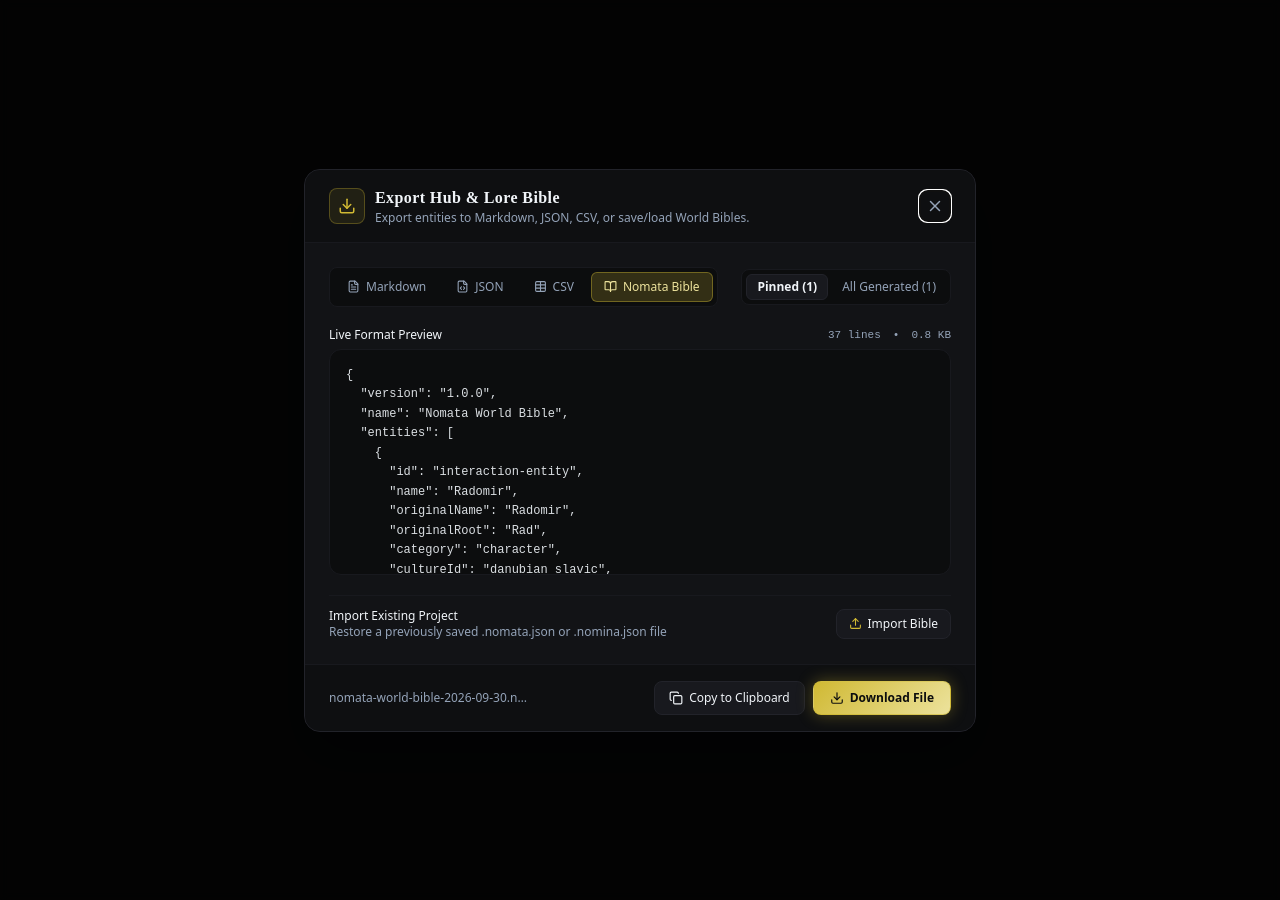
it: native export/import boundary smoke › saves a project using the native dialog path and filesystem payload
The image size is (1280, 900).
Click the button with test id "export-save-btn".
click(882, 698)  # box [813,680,951,714]
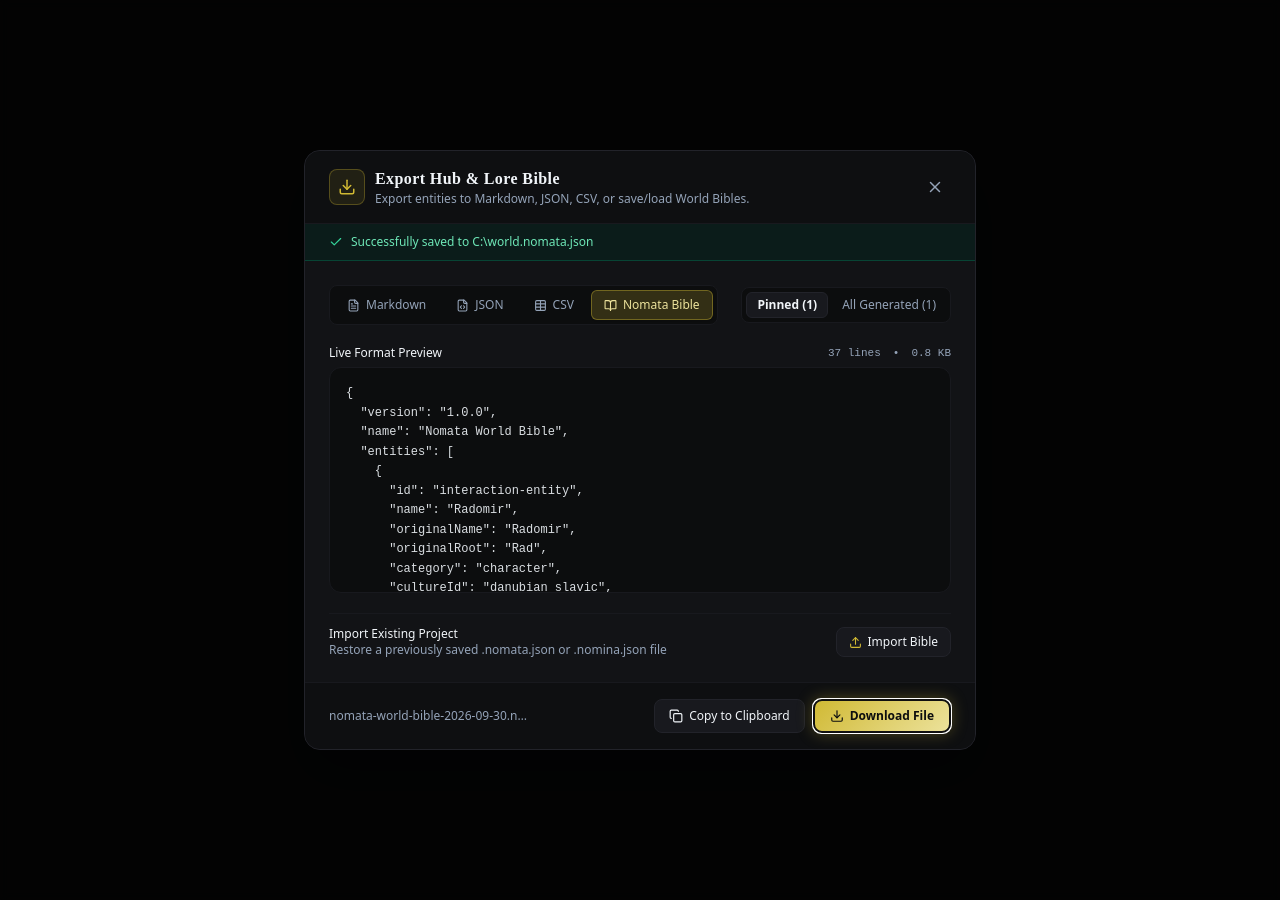
Now the text "Successfully saved to C:\\world.nomata.json" is shown, box [351,234,593,250]
